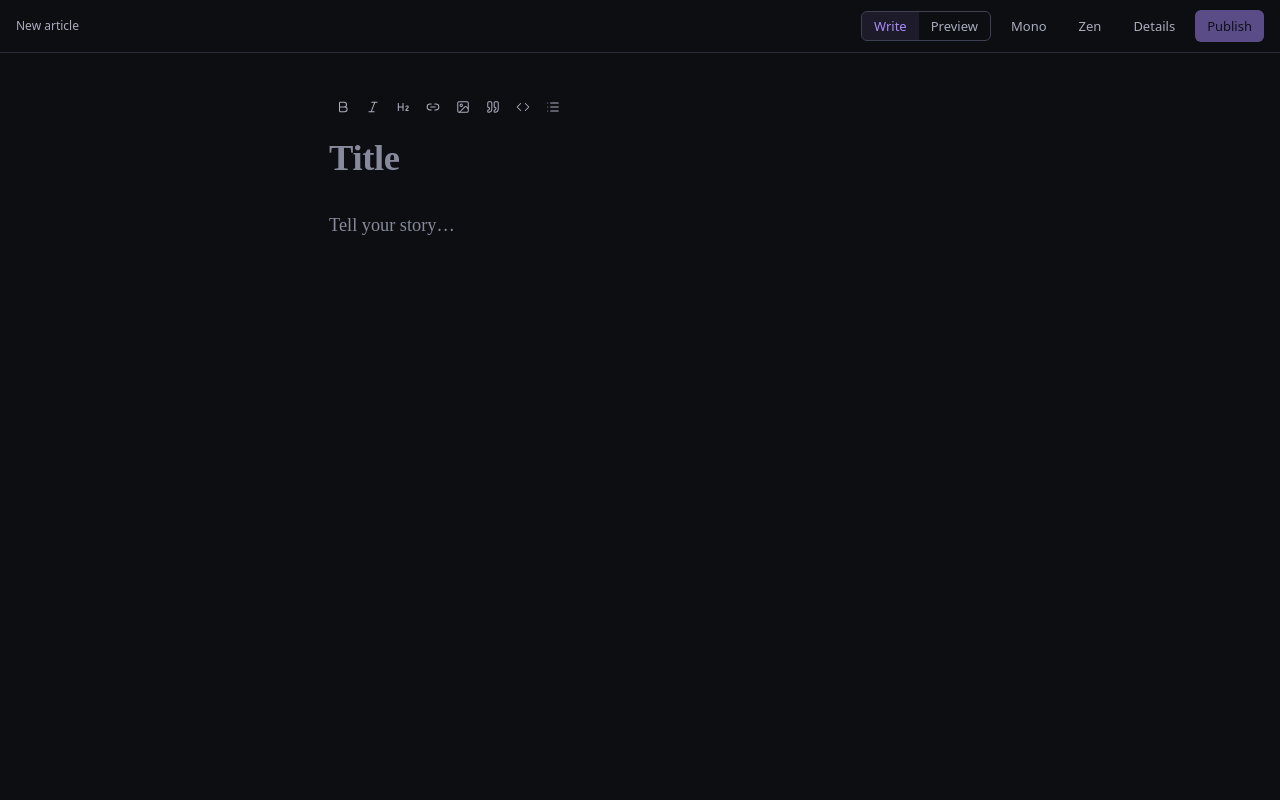
Test: ArticleEditor › saving › offers Drafts only when the list would have something in it, and saves before going
This screenshot has width=1280, height=800.
Expected: the button "Drafts" is not shown
In the text box labelled "Title": (640, 158) [329,137,951,179], type "Kept"
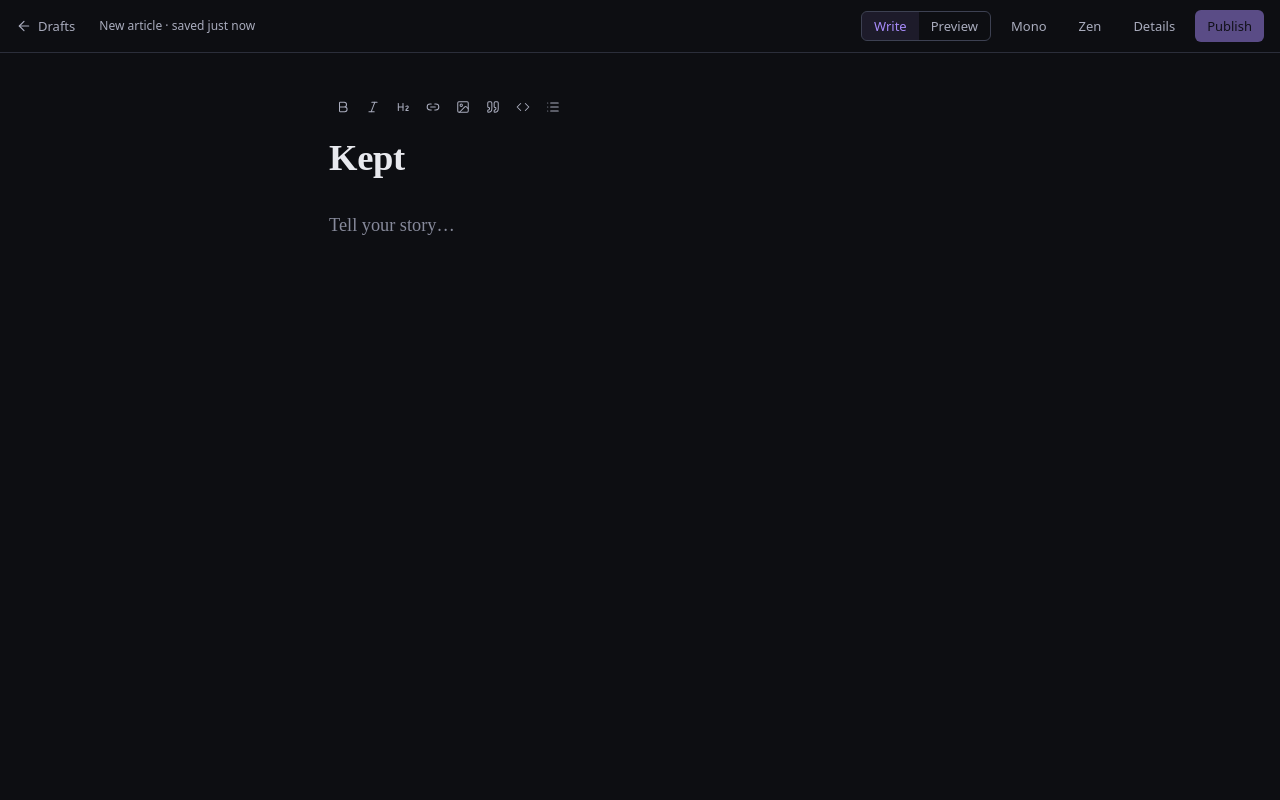
In the text box named "Body": (640, 402) [329,210,951,594], type "last second"
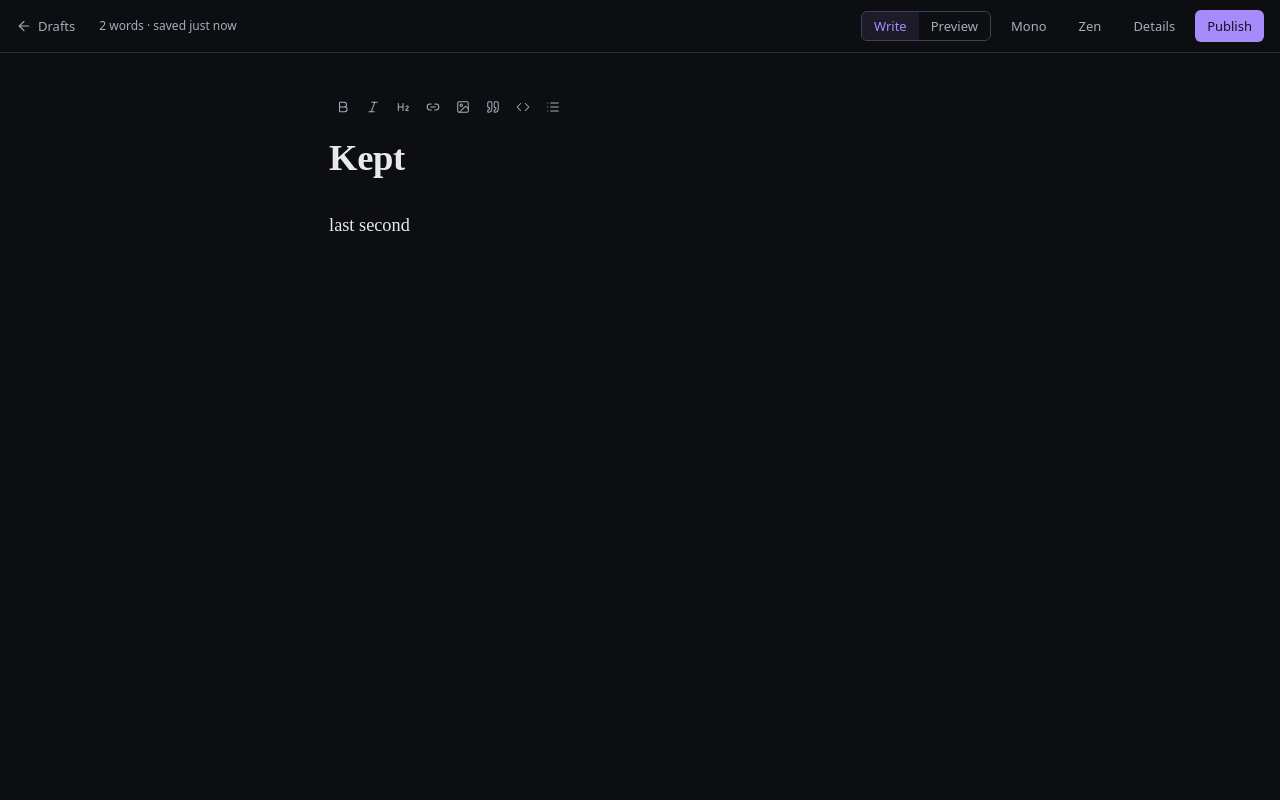
Click the button "Drafts": (46, 26) [4,10,87,42]
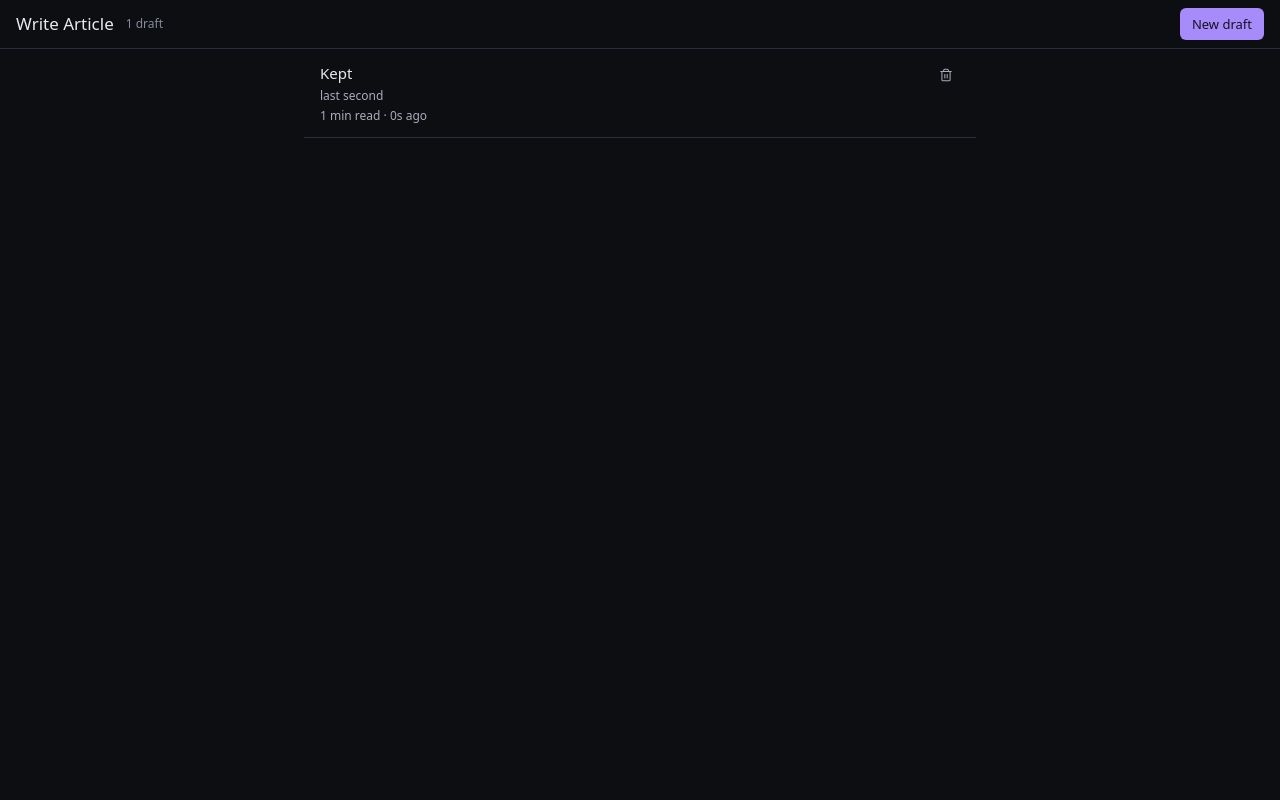
Now the text "last second" is shown, box [320,87,383,104]
Now the heading "Write Article" is shown, box [16,12,114,36]
